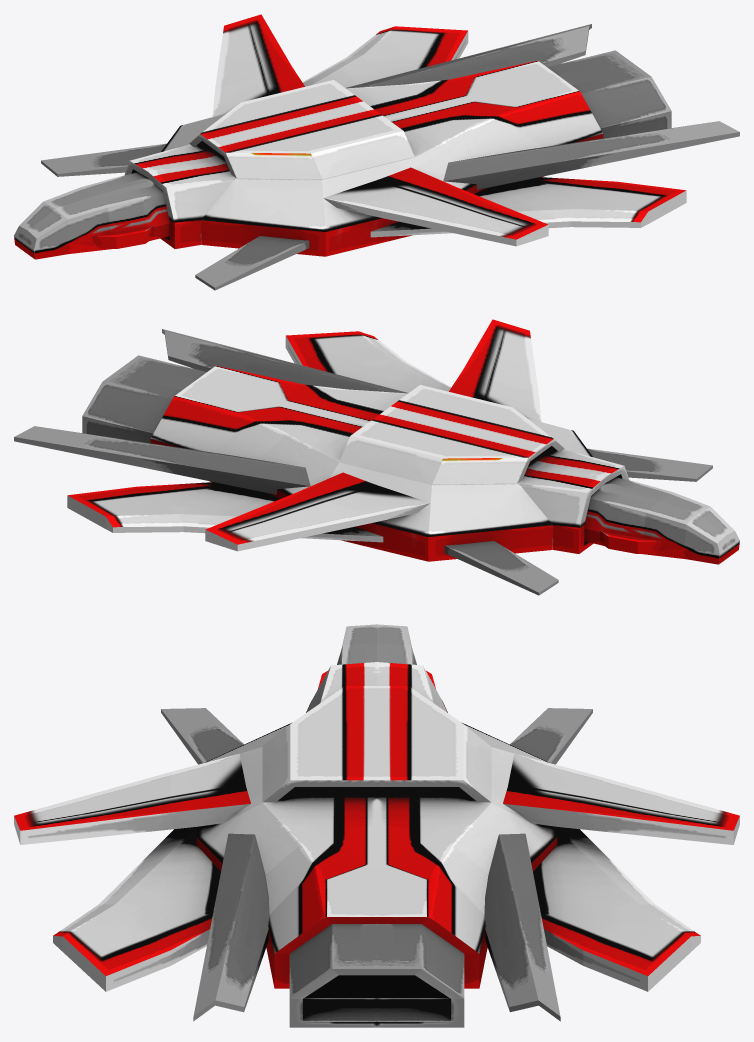
The model's file is fighter.obj.
3 views of the same model, one above another, from view 1: azimuth 30°, elevation 25°; view 2: azimuth 150°, elevation 25°; view 3: azimuth 270°, elevation 25° (orthographic). The views are drawn at different scales.
Visible parts, largest first — view 1: Caza; view 2: Caza; view 3: Caza.
Part boxes in pixels (x1=…): Caza: x1=14, y1=14, x2=739, y2=290; Caza: x1=14, y1=319, x2=739, y2=595; Caza: x1=14, y1=624, x2=739, y2=1027.
Bounding box in the file's own units: 10.29 × 1.12 × 8.11.
1 material, 1 textured.
